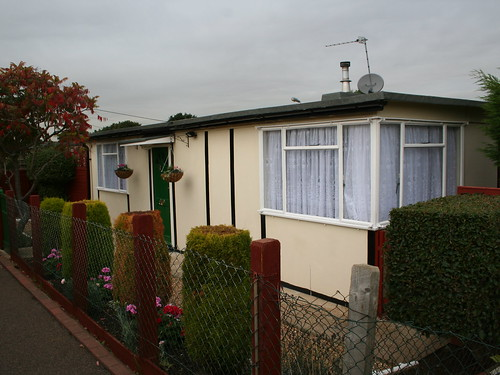building: (91, 88, 476, 341)
sky: (20, 1, 500, 99)
tree: (1, 70, 93, 226)
